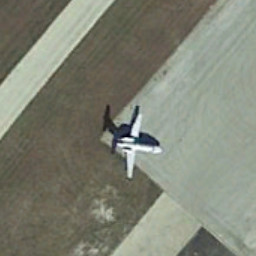Airplane: (85, 95, 186, 198)
